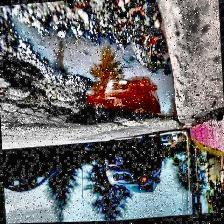pothole: (0, 0, 178, 138)
